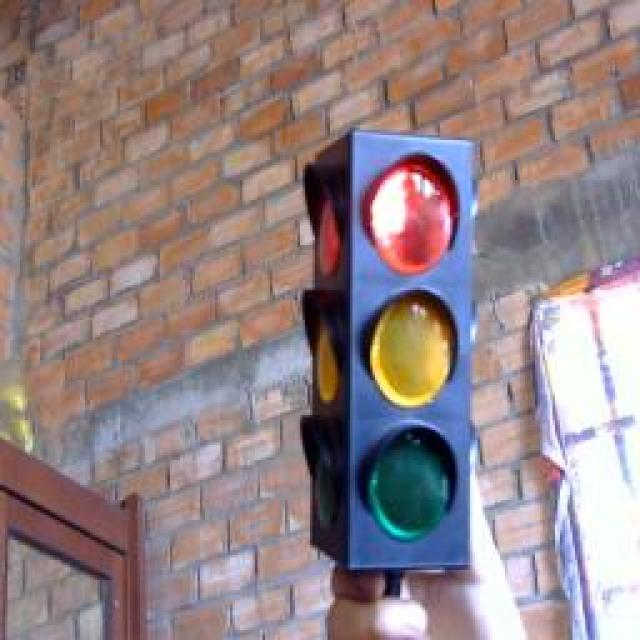-: (357, 145, 465, 285)
